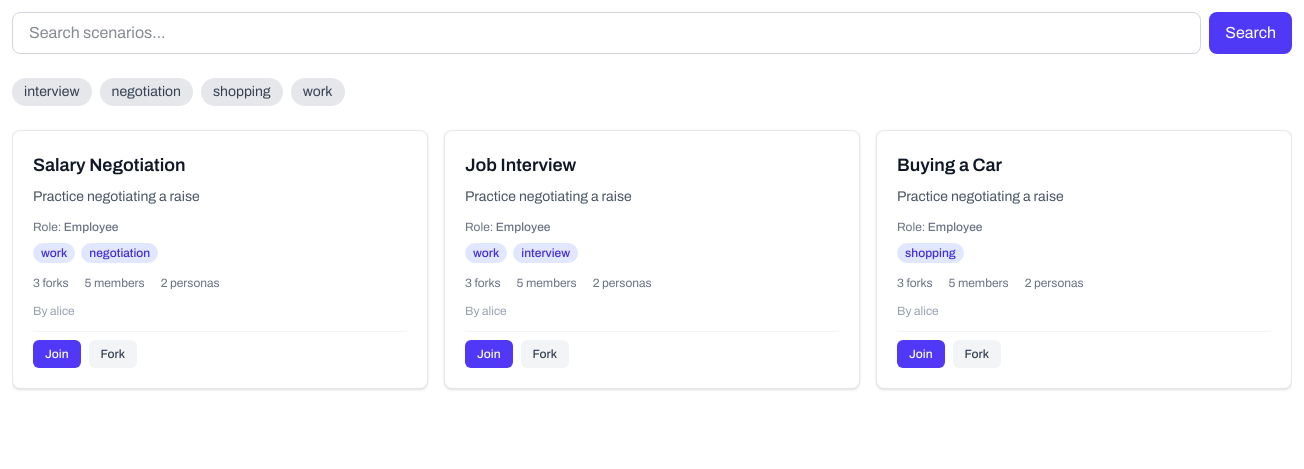
Test: ExploreClient › search rejection (thrown/network error) shows the explore-error
The width and height of the screenshot is (1304, 469).
Type "net" into the field with test id "search-input" at (607, 33), box [12,12,1201,54]
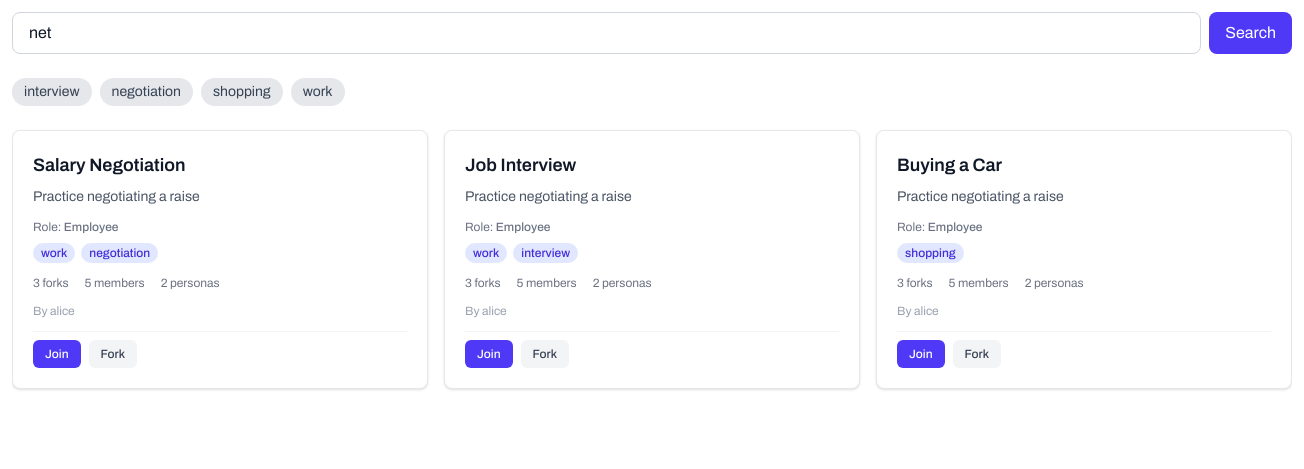
Click the button with test id "search-button" at (1251, 33), box [1209,12,1292,54]
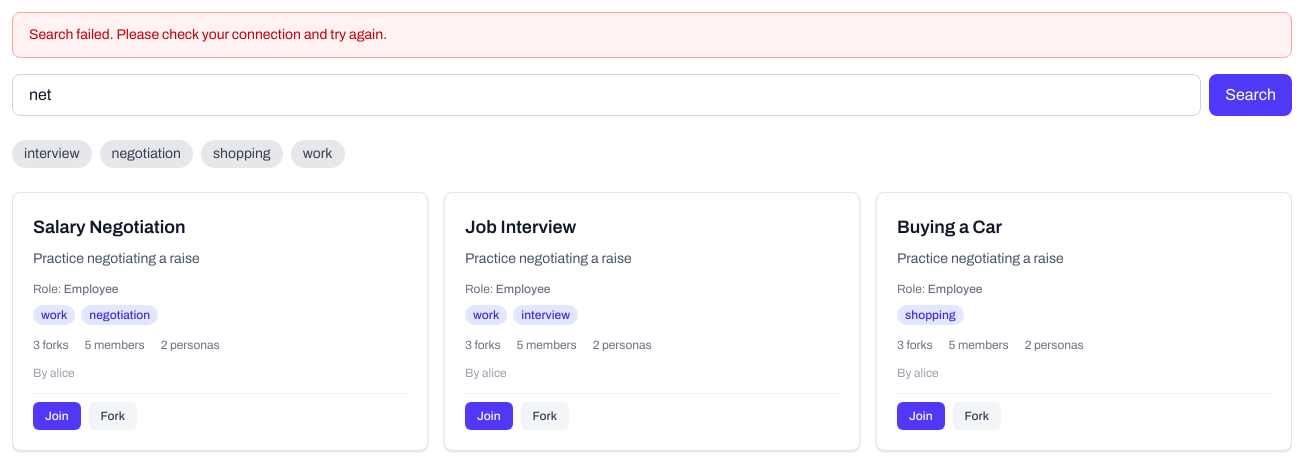
Now the message "Search failed. Please check your connection and try again." is shown, box [12,12,1292,58]
Now the message with test id "explore-error" shows "connection", box [29,27,387,42]
